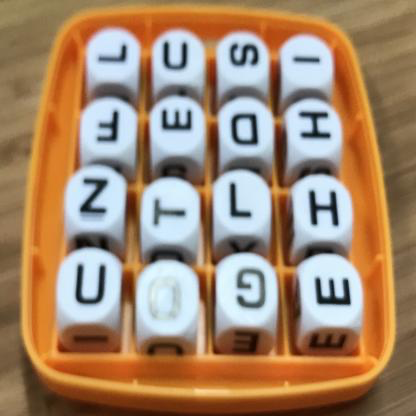d: (222, 105, 273, 157)
e: (301, 254, 363, 329), (154, 99, 204, 150)
f: (85, 99, 135, 157)
g: (218, 258, 280, 328)
h: (293, 173, 351, 241), (289, 104, 336, 156)
i: (284, 32, 333, 87)
l: (215, 171, 272, 236), (89, 24, 141, 87)
o: (138, 262, 195, 333)
s: (222, 35, 264, 86)
t: (146, 179, 199, 243)
u: (64, 249, 122, 320), (155, 27, 200, 82)
z: (70, 164, 125, 232)
